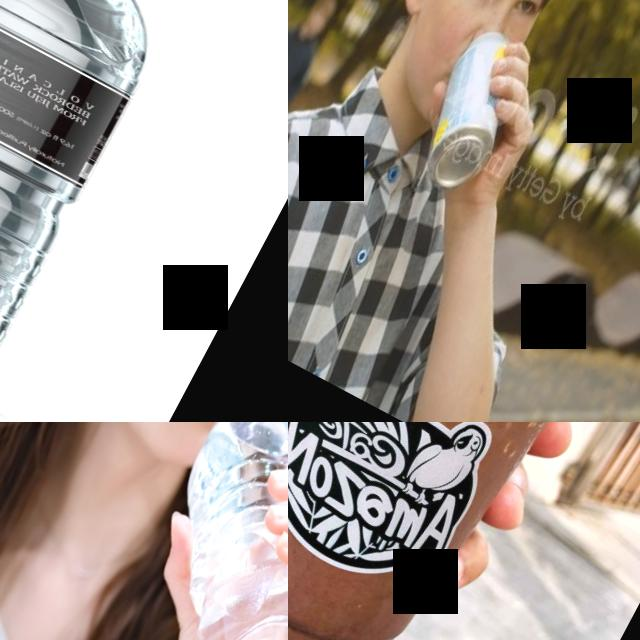bottle: (0, 0, 214, 404), (56, 422, 288, 640)
can: (400, 18, 546, 202)
cup: (288, 422, 640, 640)
